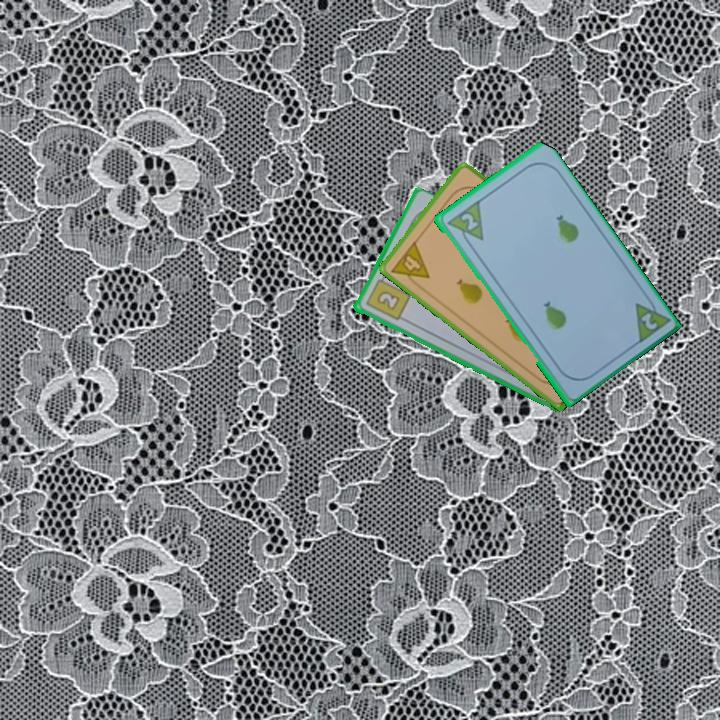2b: (362, 271, 413, 323)
2p: (457, 209, 480, 233), (637, 309, 660, 333)
4p: (387, 237, 432, 292)
